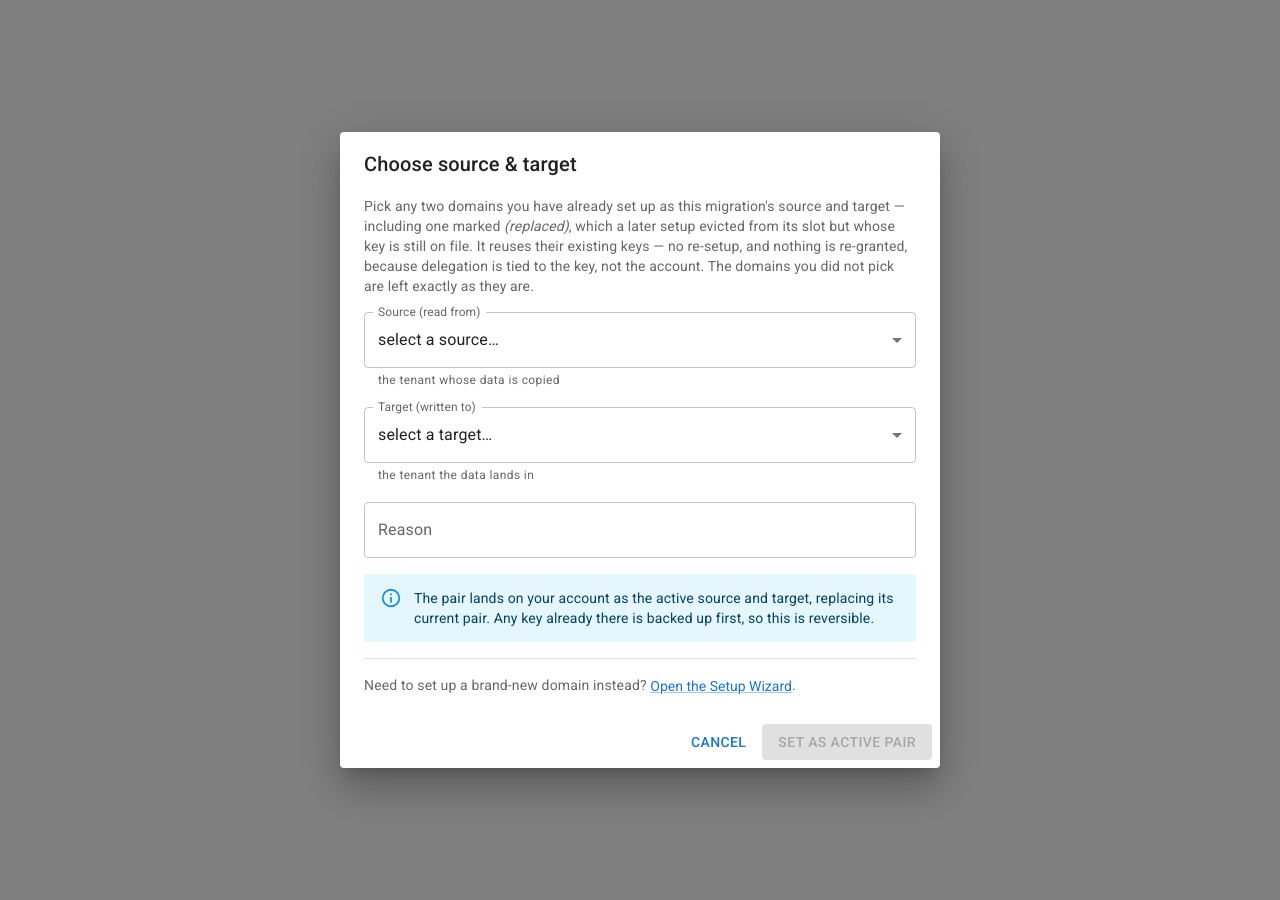
Test: LinkDomainsDialog licence-headroom warning › shows the real error, not a warning, when linking fails outright
Select "src.example — source · a@ex.com" in the dropdown with test id "link-source": (640, 340) [364, 312, 916, 368]
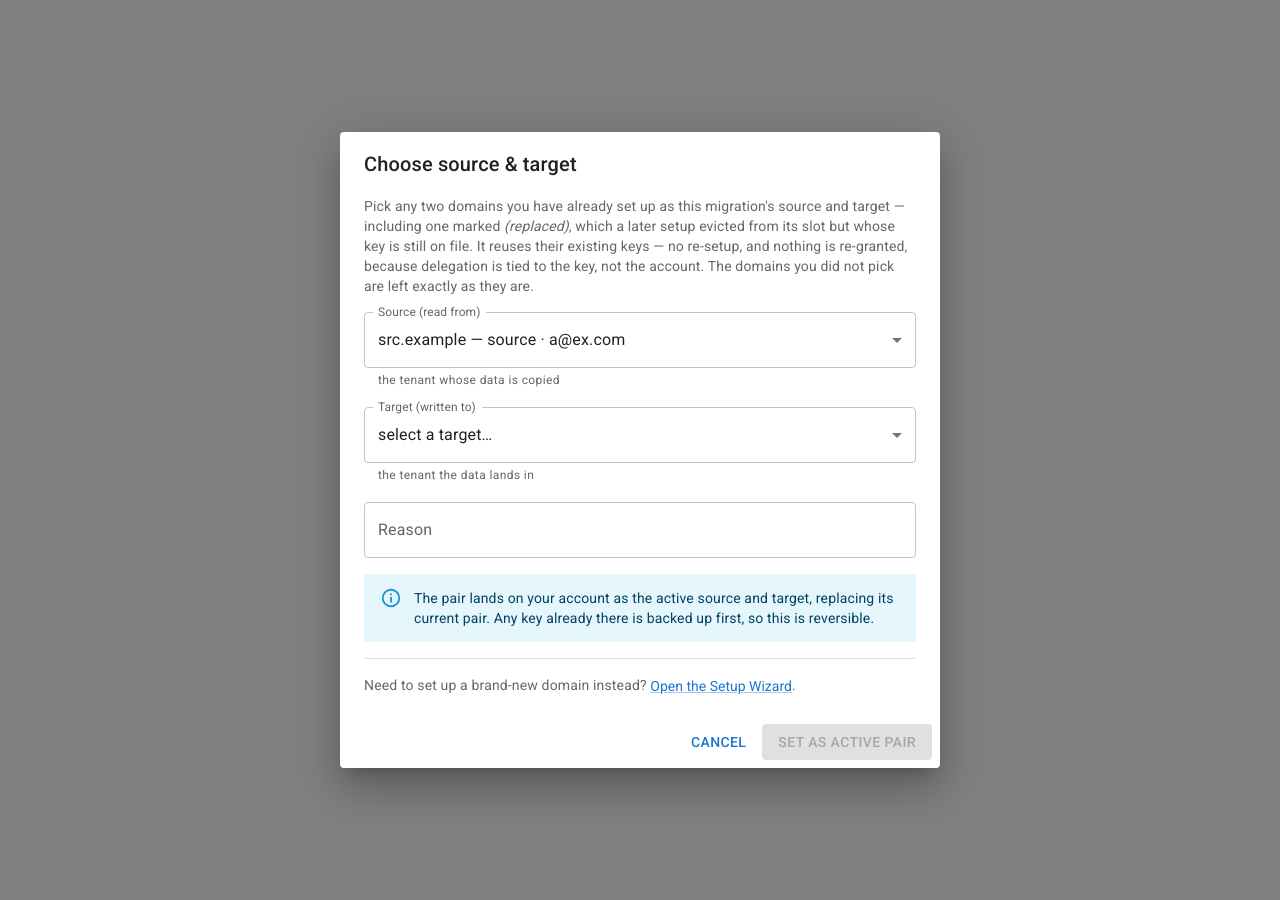
Select "tgt.example — target · b@ex.com" in the dropdown with test id "link-target": (640, 435) [364, 407, 916, 463]
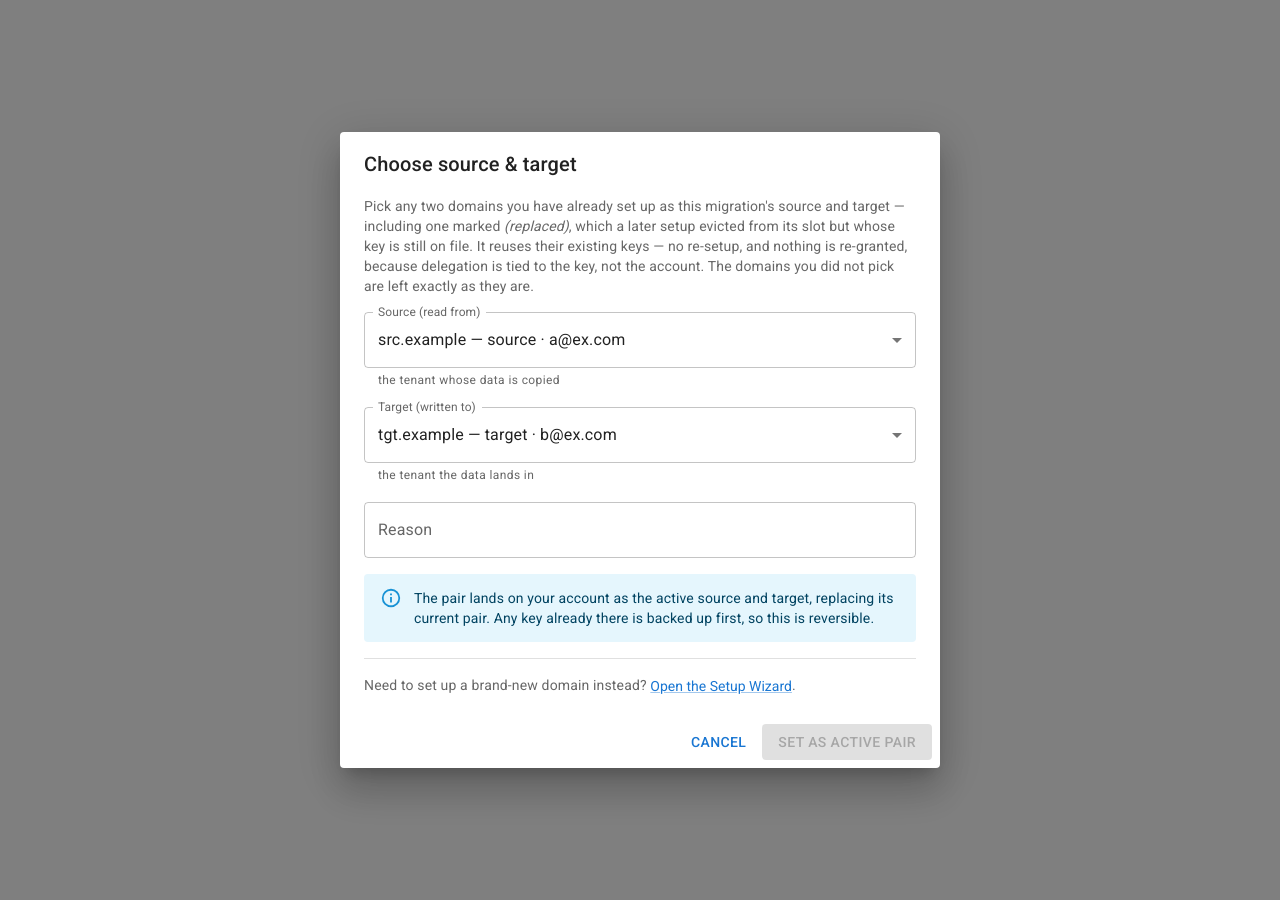
In the field with test id "link-reason": (640, 530) [364, 502, 916, 558], type "test run"
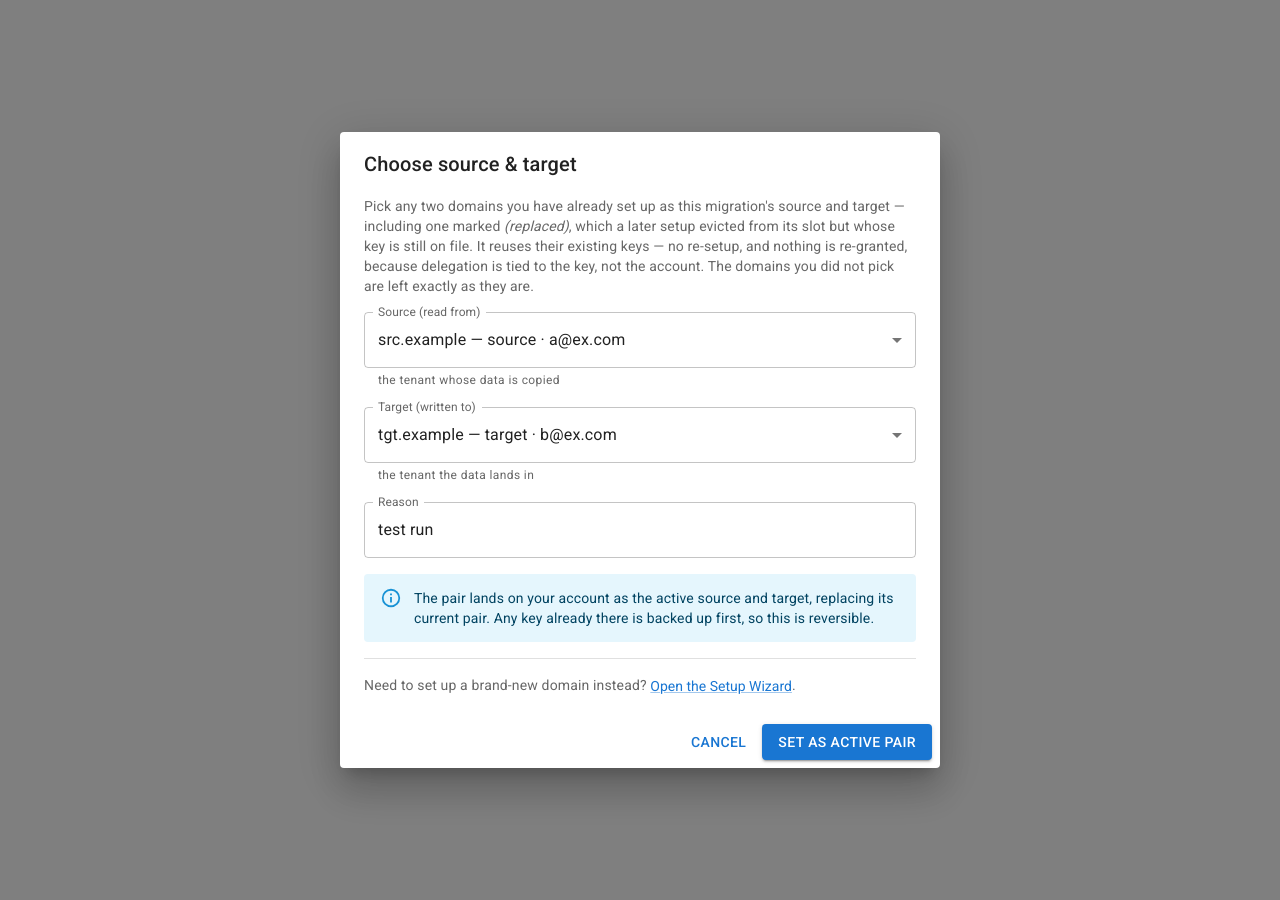
Click the button with test id "link-connect": (847, 742) [762, 724, 932, 760]
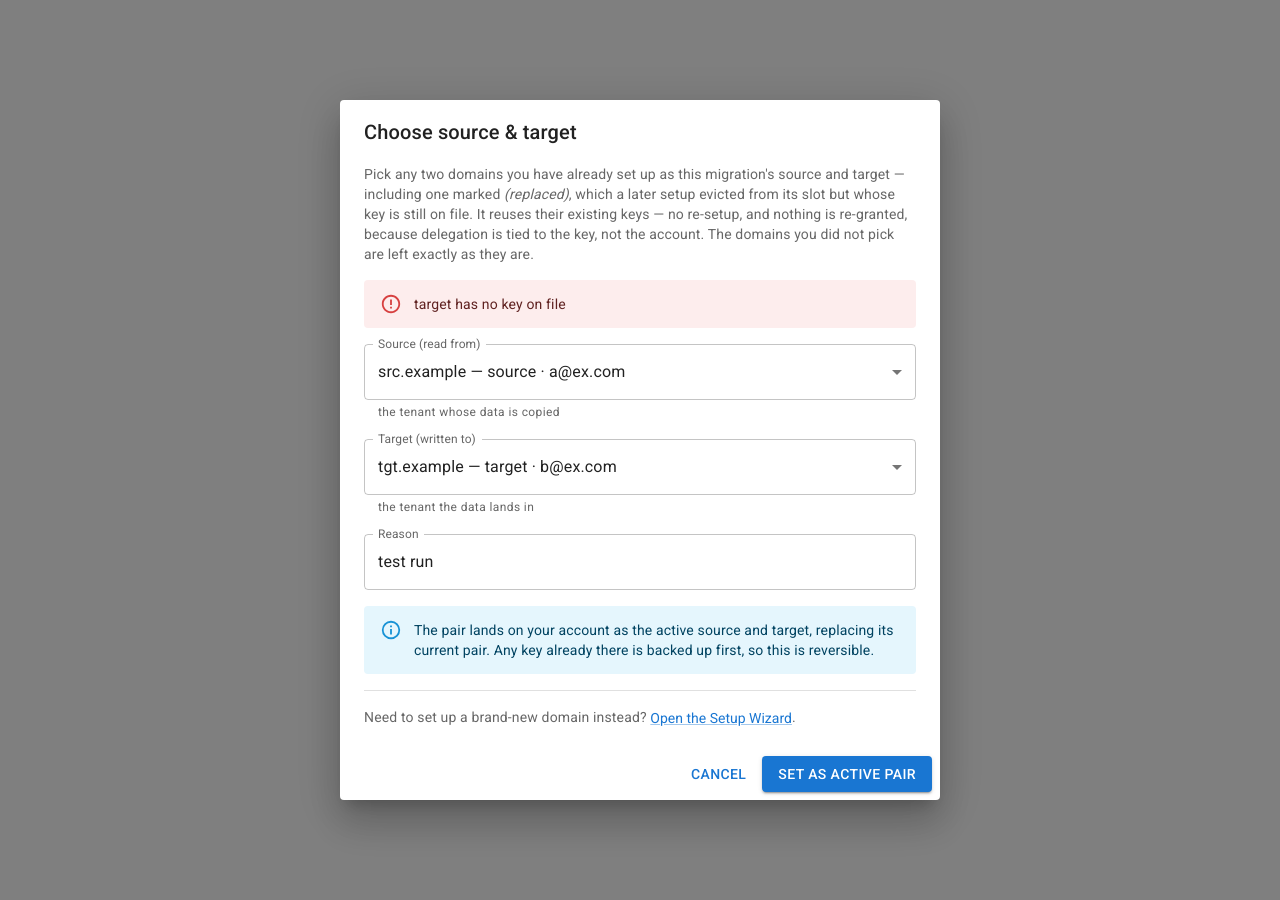
Check: the message with test id "link-error" reads "target has no key on file", box [414, 296, 566, 312]
